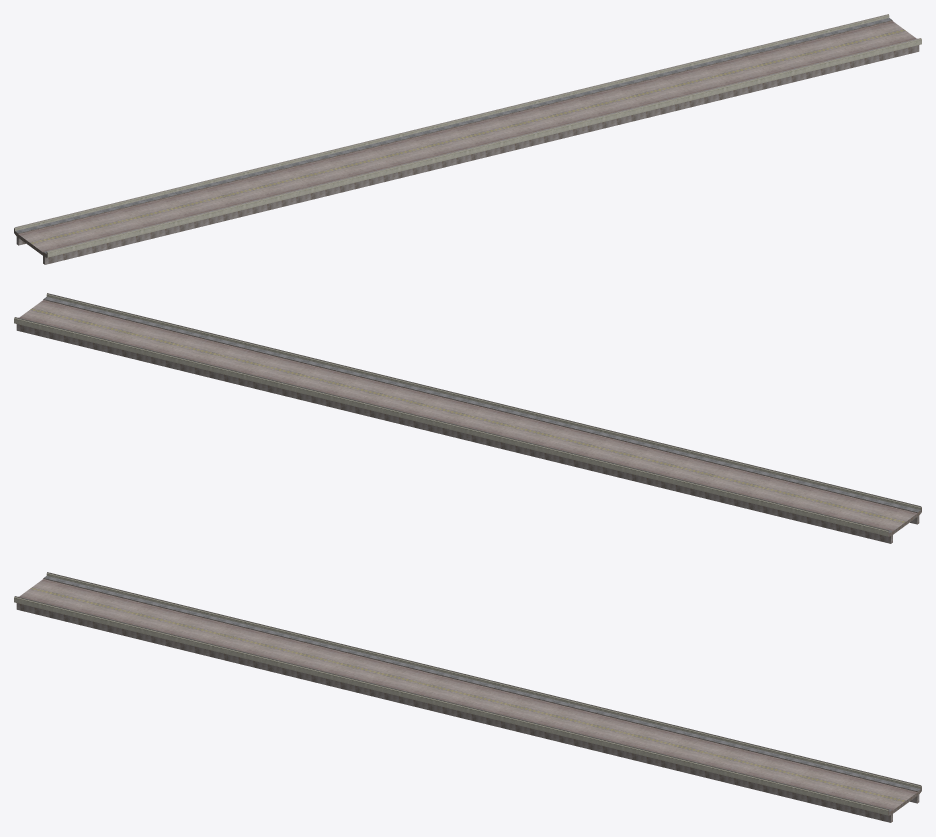
File: des_ebrigroad07.obj
The picture shows the model from 3 angles, top to bottom: view 1: azimuth 30°, elevation 25°; view 2: azimuth 150°, elevation 25°; view 3: azimuth 330°, elevation 25°; orthographic projection.
Visible parts, largest first — view 1: des_ebrigroad07; view 2: des_ebrigroad07; view 3: des_ebrigroad07.
Boxes of the visible parts, bbox=[...] form: des_ebrigroad07: bbox=[14, 14, 921, 264]; des_ebrigroad07: bbox=[14, 293, 921, 543]; des_ebrigroad07: bbox=[14, 572, 921, 822].
Bounding box in the file's own units: 240 × 4.01 × 16.
5 materials, 5 textured.
